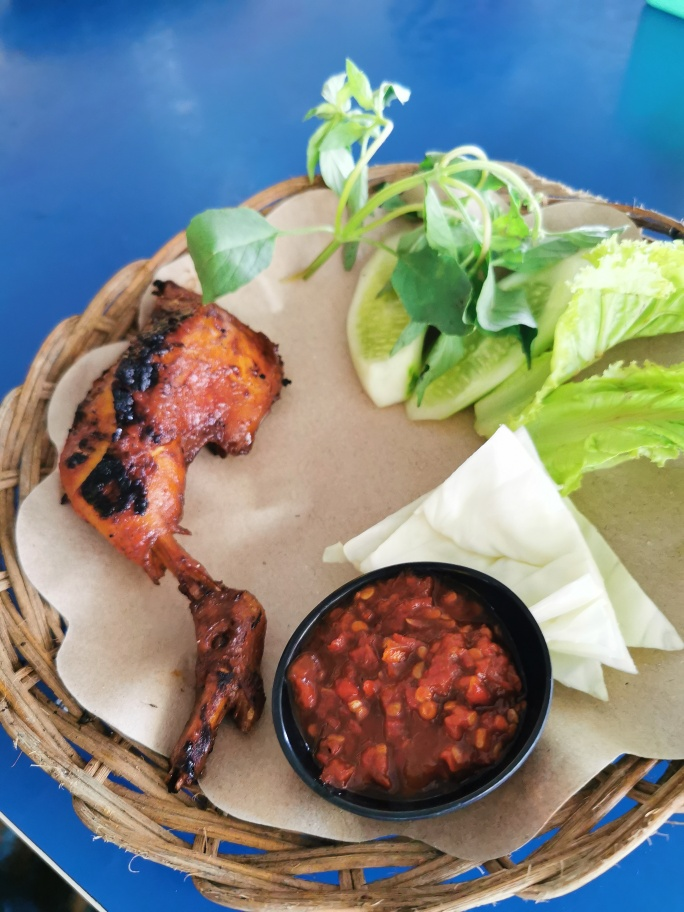ayam bakar: (56, 269, 285, 808)
